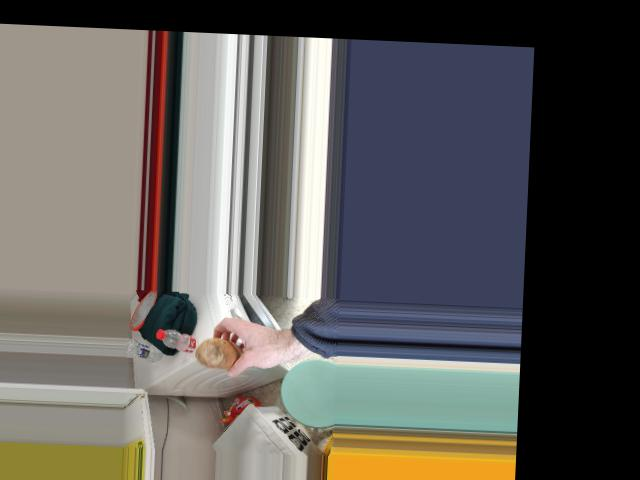sweet_potato: (196, 329, 249, 374)
